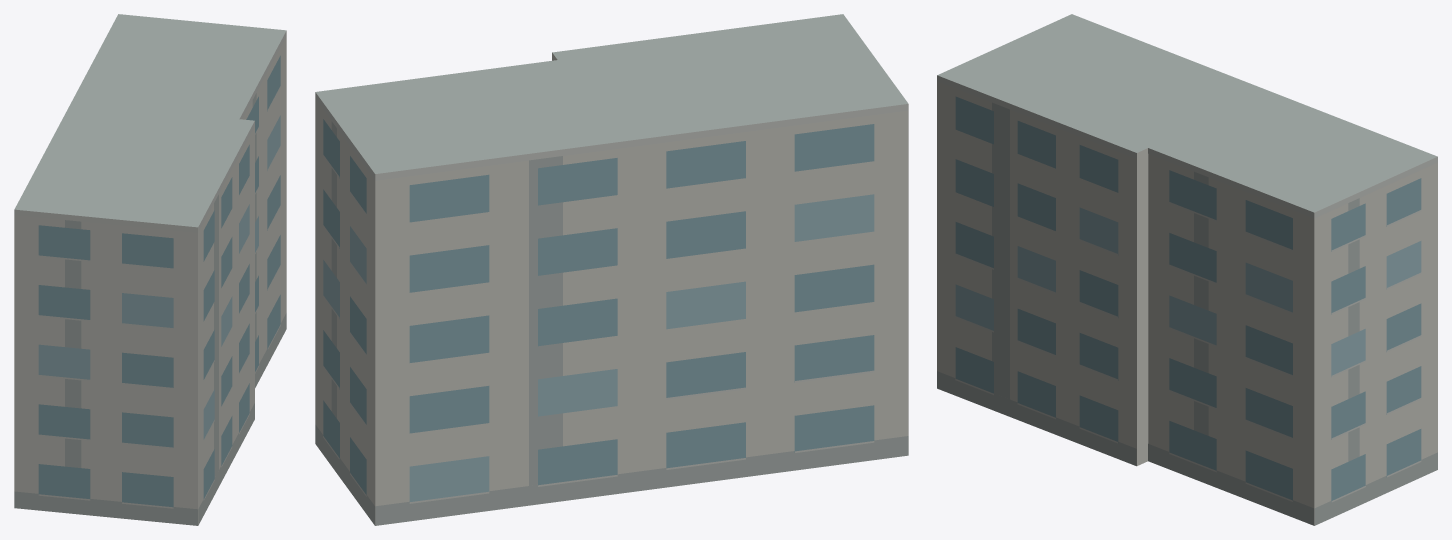
Rendered from survey-upis-32912568.glb.
3 renders of one model, left to right at view 1: azimuth 30°, elevation 25°; view 2: azimuth 150°, elevation 25°; view 3: azimuth 270°, elevation 25°, orthographic. The views are drawn at different scales.
Visible parts, largest first — view 1: survey-upis-32912568.tmp; view 2: survey-upis-32912568.tmp; view 3: survey-upis-32912568.tmp.
Boxes of the visible parts, <box> form: survey-upis-32912568.tmp: <box>14,14,286,525</box>; survey-upis-32912568.tmp: <box>315,14,908,525</box>; survey-upis-32912568.tmp: <box>937,14,1437,525</box>.
Size of the model in its own units: 17.82 by 13.1 by 18.98.
